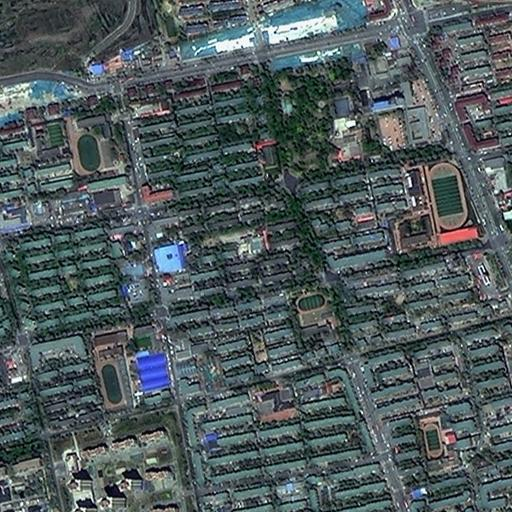school: (390, 155, 484, 257), (63, 112, 128, 179), (288, 285, 340, 362), (88, 328, 132, 414), (415, 407, 461, 472)
